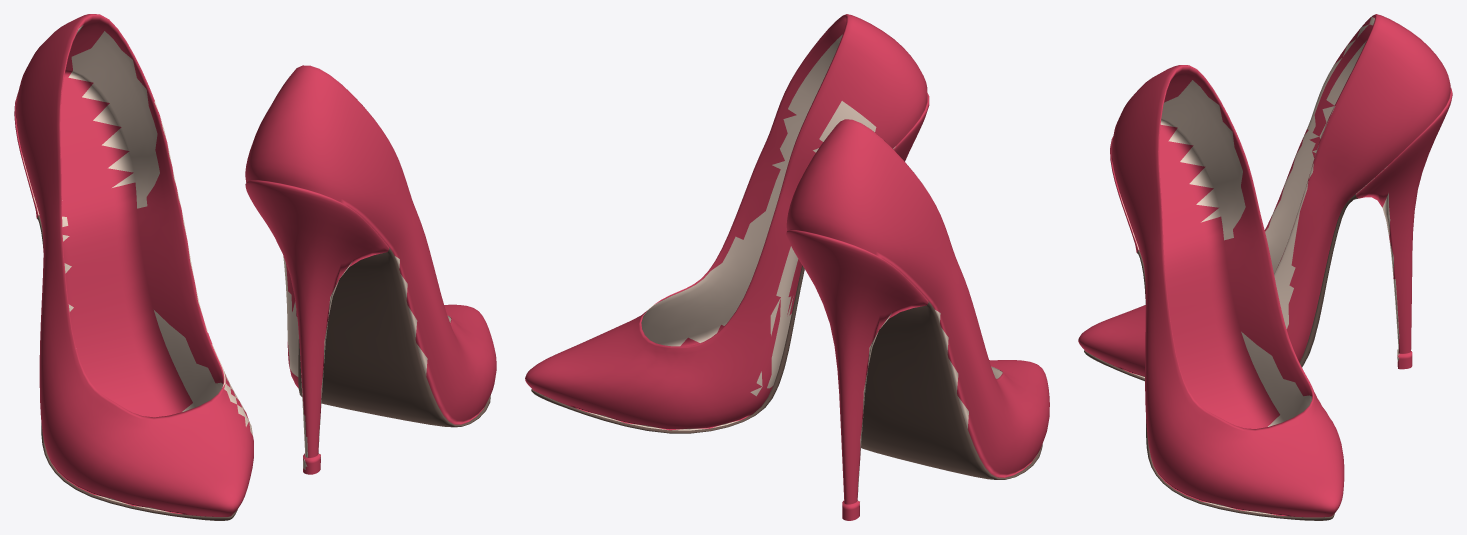
File: high-heels-arion.glb
3 views of the same model, side by side, from view 1: azimuth 30°, elevation 25°; view 2: azimuth 150°, elevation 25°; view 3: azimuth 270°, elevation 25° (orthographic). The views are drawn at different scales.
Parts seen in each view (by area): view 1: Object_3, Object_4; view 2: Object_3, Object_4; view 3: Object_3, Object_4.
Part boxes in pixels (x1=…): Object_3: x1=14, y1=14, x2=496, y2=516; Object_4: x1=37, y1=215, x2=490, y2=520; Object_3: x1=525, y1=14, x2=1049, y2=520; Object_4: x1=531, y1=265, x2=1042, y2=479; Object_3: x1=1078, y1=14, x2=1452, y2=517; Object_4: x1=1084, y1=194, x2=1358, y2=520.
Bounding box in the file's own units: 26.76 × 21.76 × 20.62.
